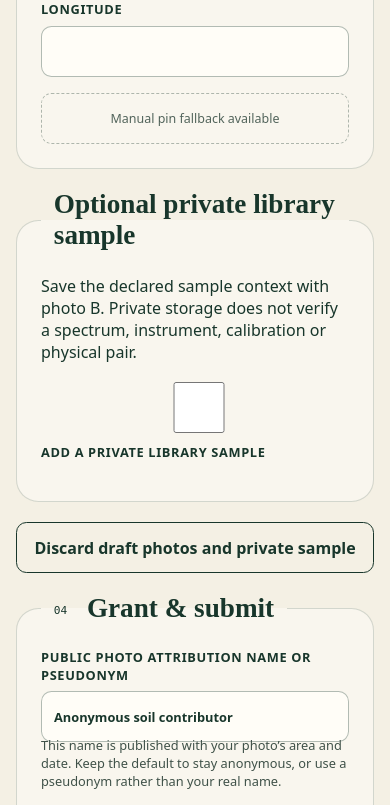
Scenario: keeps a failed explicit library removal held and visible for another discard attempt
The image size is (390, 805).
(page scrolled)
Check: the element named "add a private library sample" is enabled, box [16,189,374,502]
Click the checkbox labelled "Add a private library sample" at (199, 408), box [45,382,353,433]
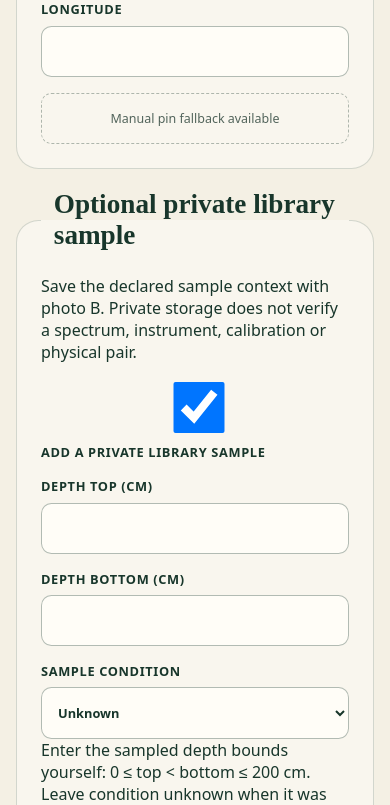
Check: the number field labelled "Depth top (cm)" is shown, box [41,503,349,554]
Click the checkbox labelled "Add a private library sample" at (199, 408), box [45,382,353,433]
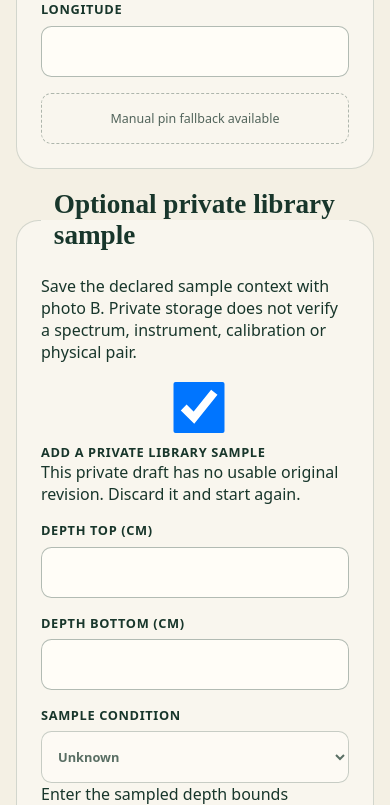
Check: the number field labelled "Depth top (cm)" is disabled, box [41,547,349,598]
Click the checkbox labelled "Add a private library sample" at (199, 408), box [45,382,353,433]
(page scrolled)
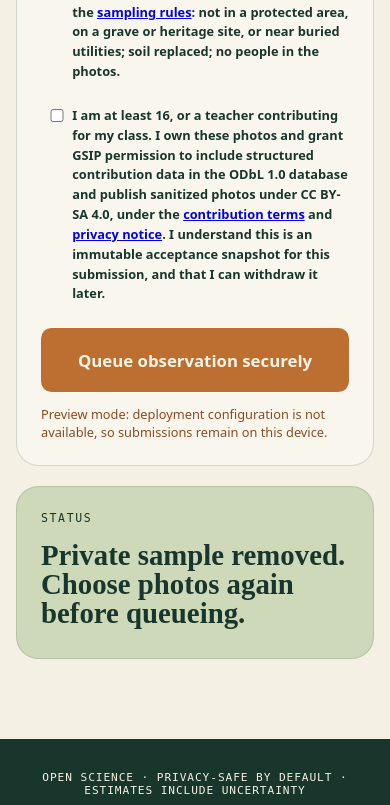
Check: the heading "Private sample removed. Choose photos again before queueing." is shown, box [41,541,349,627]
